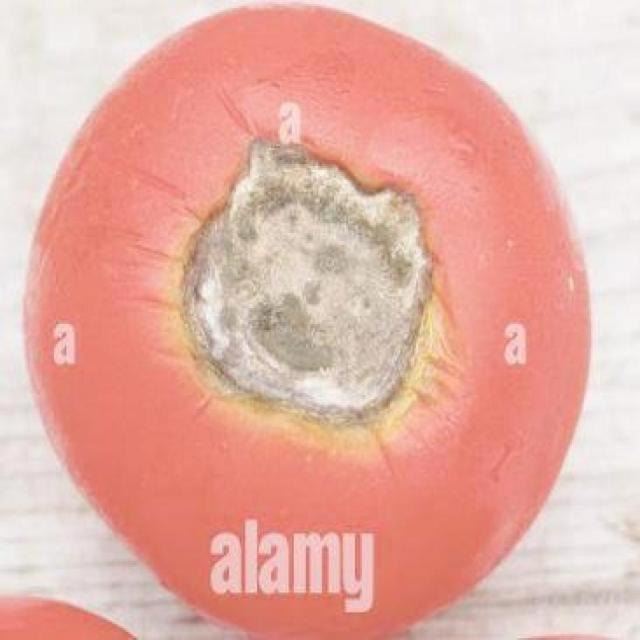Blossom End Rot Fruit: (112, 87, 296, 286)
